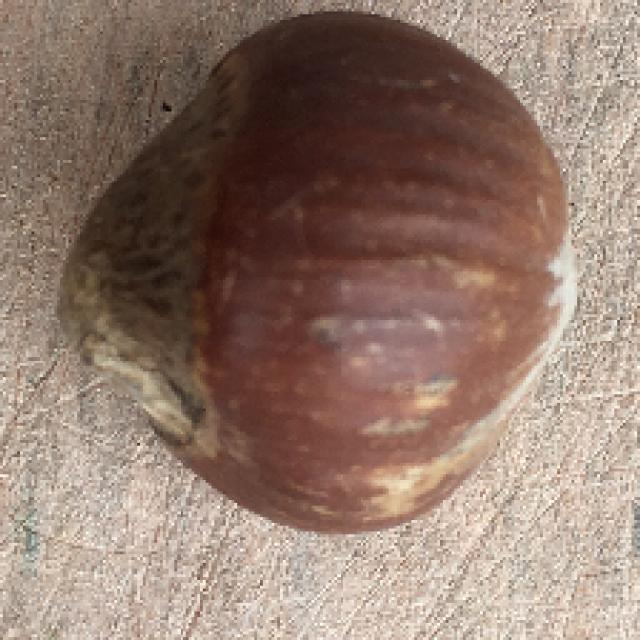qualityHazelnut: (57, 12, 590, 531)
